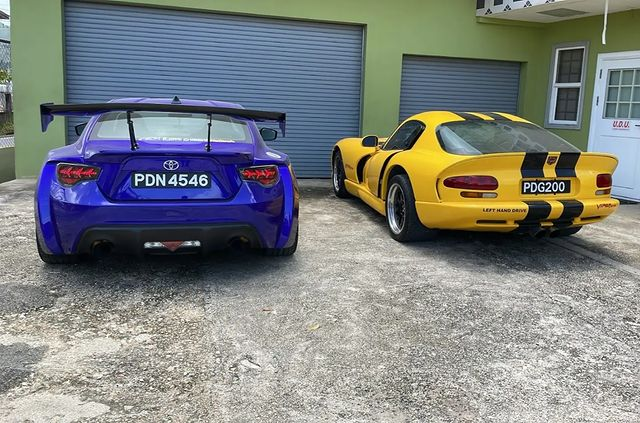License-Plate: (131, 171, 209, 186), (521, 181, 569, 193)
